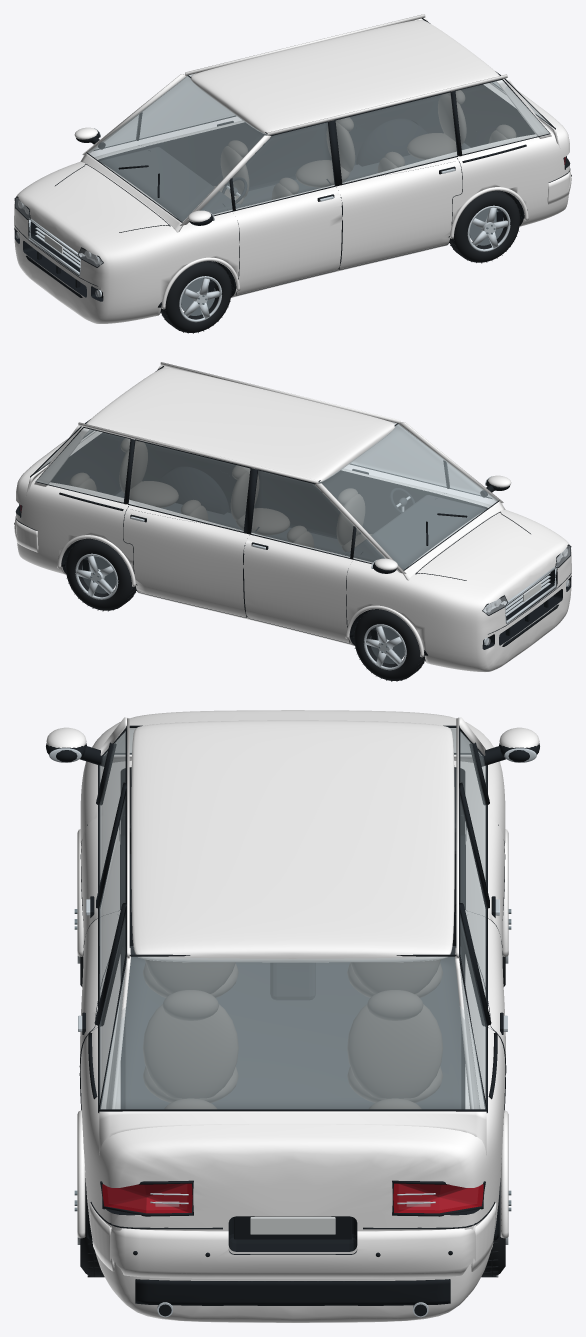
Rendered from minivan.glb.
3 views of the same model, one above another, from view 1: azimuth 30°, elevation 25°; view 2: azimuth 150°, elevation 25°; view 3: azimuth 270°, elevation 25° (orthographic). The views are drawn at different scales.
Parts seen in each view (by area): view 1: Original minivan fourteen-section body shell, Crowned roof pressing, Raked transparent windscreen, Separate closed door panel.001, Separate closed door panel, Rear door transparent glass, Front door transparent glass, Extended rear quarter glazing, Sculpted instrument panel, Separate closed door panel.003, Front door transparent glass.001, Separate closed door panel.002 (+23 smaller); view 2: Original minivan fourteen-section body shell, Crowned roof pressing, Raked transparent windscreen, Separate closed door panel.003, Separate closed door panel.002, Rear door transparent glass.001, Front door transparent glass.001, Extended rear quarter glazing.001, Sculpted instrument panel, Separate closed door panel.001, Front door transparent glass, Separate closed door panel (+23 smaller); view 3: Crowned roof pressing, Original minivan fourteen-section body shell, Rear transparent hatch glass, Interior carpet, Formed painted rear bumper cover, Sculpted rear lower bumper insert, Contoured seat back.002, Contoured seat back.003, Painted rear glass sill, Separate closed door panel, Separate closed door panel.002, Separate closed door panel.001 (+30 smaller).
Part boxes in pixels (x1,y1,x2,y2): Original minivan fourteen-section body shell: (14,81,570,323); Crowned roof pressing: (190,20,499,134); Raked transparent windscreen: (87,76,266,221); Separate closed door panel.001: (336,161,462,269); Separate closed door panel: (232,186,342,295); Rear door transparent glass: (335,92,457,183); Front door transparent glass: (201,122,334,215); Extended rear quarter glazing: (455,80,549,154); Sculpted instrument panel: (99,147,240,221); Separate closed door panel.003: (247,113,365,190); Front door transparent glass.001: (95,73,235,149); Separate closed door panel.002: (138,120,246,186); Original minivan fourteen-section body shell: (15,429,571,671); Crowned roof pressing: (86,368,395,482); Raked transparent windscreen: (319,424,498,569); Separate closed door panel.003: (123,509,249,617); Separate closed door panel.002: (243,534,353,643); Rear door transparent glass.001: (128,440,250,531); Front door transparent glass.001: (251,470,384,563); Extended rear quarter glazing.001: (36,428,130,502); Sculpted instrument panel: (345,495,486,569); Separate closed door panel.001: (220,461,338,538); Front door transparent glass: (350,421,490,497); Separate closed door panel: (339,468,447,534); Crowned roof pressing: (131,720,454,962); Original minivan fourteen-section body shell: (80,710,505,1322); Rear transparent hatch glass: (100,956,485,1109); Interior carpet: (124,946,461,1109); Formed painted rear bumper cover: (110,1225,475,1278); Sculpted rear lower bumper insert: (135,1279,450,1305); Contoured seat back.002: (143,1004,238,1098); Contoured seat back.003: (347,1004,442,1098); Painted rear glass sill: (99,1111,486,1154); Separate closed door panel: (81,813,124,1050); Separate closed door panel.002: (461,813,504,1050); Separate closed door panel.001: (80,915,124,1109).
Size of the model in its own units: 5.09 by 1.78 by 2.26.
13 materials, 11 textured.
